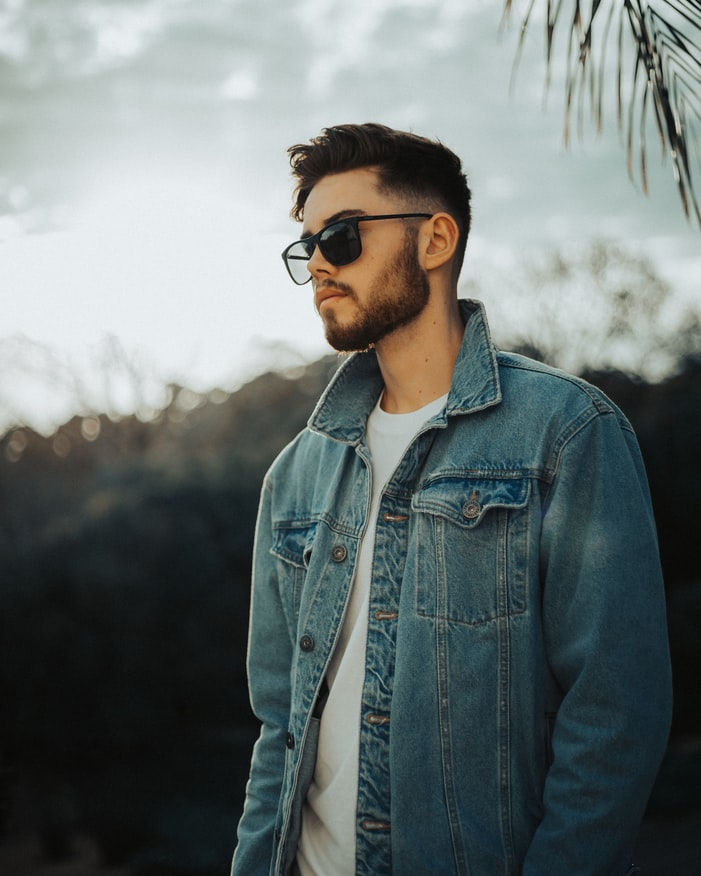beard: (307, 279, 431, 355)
glasses: (271, 219, 382, 286)
